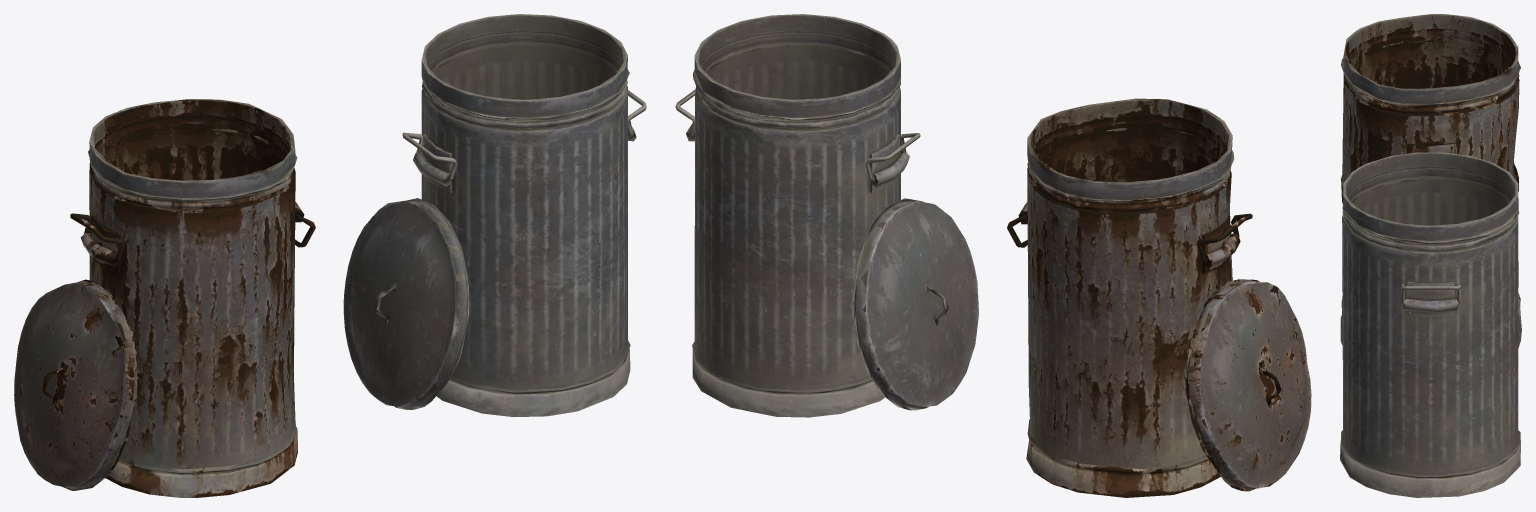
The model's file is metal_trash_can.glb.
3 views of the same model, side by side, from view 1: azimuth 30°, elevation 25°; view 2: azimuth 150°, elevation 25°; view 3: azimuth 270°, elevation 25° (orthographic). The views are drawn at different scales.
Parts seen in each view (by area): view 1: metal_trash_can, metal_trash_can_rust, metal_trash_can_lid, metal_trash_can_rust_lid; view 2: metal_trash_can, metal_trash_can_rust, metal_trash_can_lid, metal_trash_can_rust_lid; view 3: metal_trash_can, metal_trash_can_rust, metal_trash_can_handle_right.
Part boxes in pixels (left/top/right/bottom): metal_trash_can: left=413, top=14, right=636, bottom=416; metal_trash_can_rust: left=81, top=99, right=304, bottom=497; metal_trash_can_lid: left=343, top=198, right=469, bottom=409; metal_trash_can_rust_lid: left=14, top=279, right=137, bottom=490; metal_trash_can: left=686, top=14, right=909, bottom=417; metal_trash_can_rust: left=1018, top=98, right=1240, bottom=497; metal_trash_can_lid: left=853, top=198, right=978, bottom=410; metal_trash_can_rust_lid: left=1185, top=279, right=1311, bottom=491; metal_trash_can: left=1340, top=152, right=1520, bottom=497; metal_trash_can_rust: left=1341, top=14, right=1520, bottom=317; metal_trash_can_handle_right: left=1401, top=284, right=1461, bottom=304.
Size of the model in its own units: 1.78 by 0.9062 by 0.5524.
Materials: 2 (2 with a texture image).
